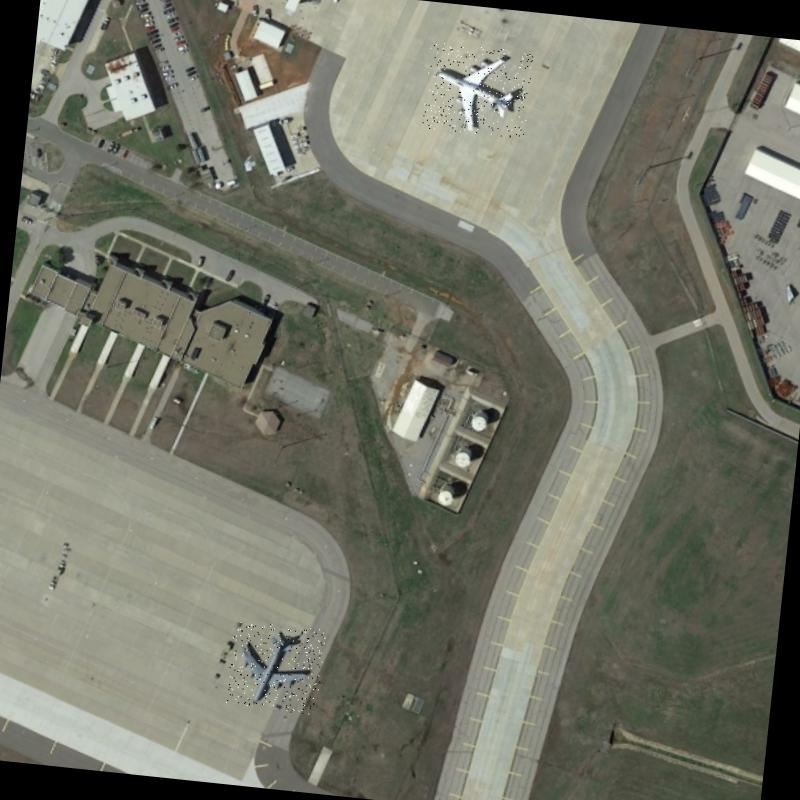A11: (422, 42, 534, 138)
A14: (226, 620, 326, 715)
